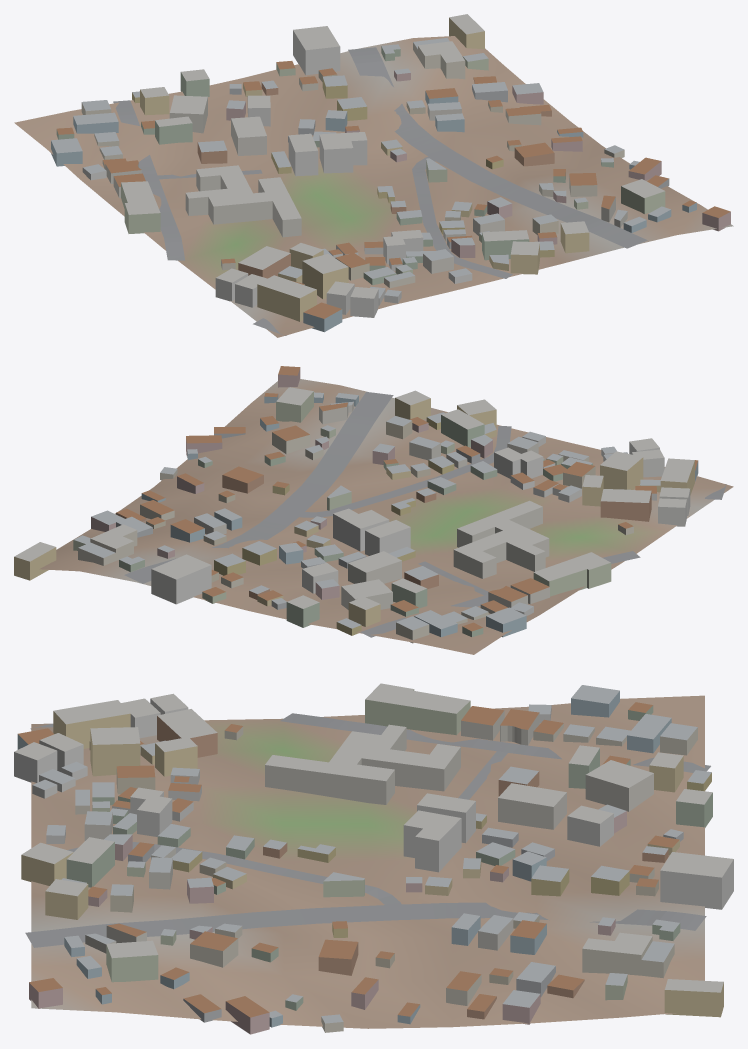
3 renders of one model, top to bottom at view 1: azimuth 30°, elevation 25°; view 2: azimuth 150°, elevation 25°; view 3: azimuth 270°, elevation 25°, orthographic. The views are drawn at different scales.
Visible parts, largest first — view 1: Lo; view 2: Lo; view 3: Lo.
Part boxes in pixels (x1,y1,x2,y2): Lo: (14,14,733,337); Lo: (14,366,733,654); Lo: (14,683,733,1034).
Bounding box in the file's own units: 270 × 27.93 × 274.
